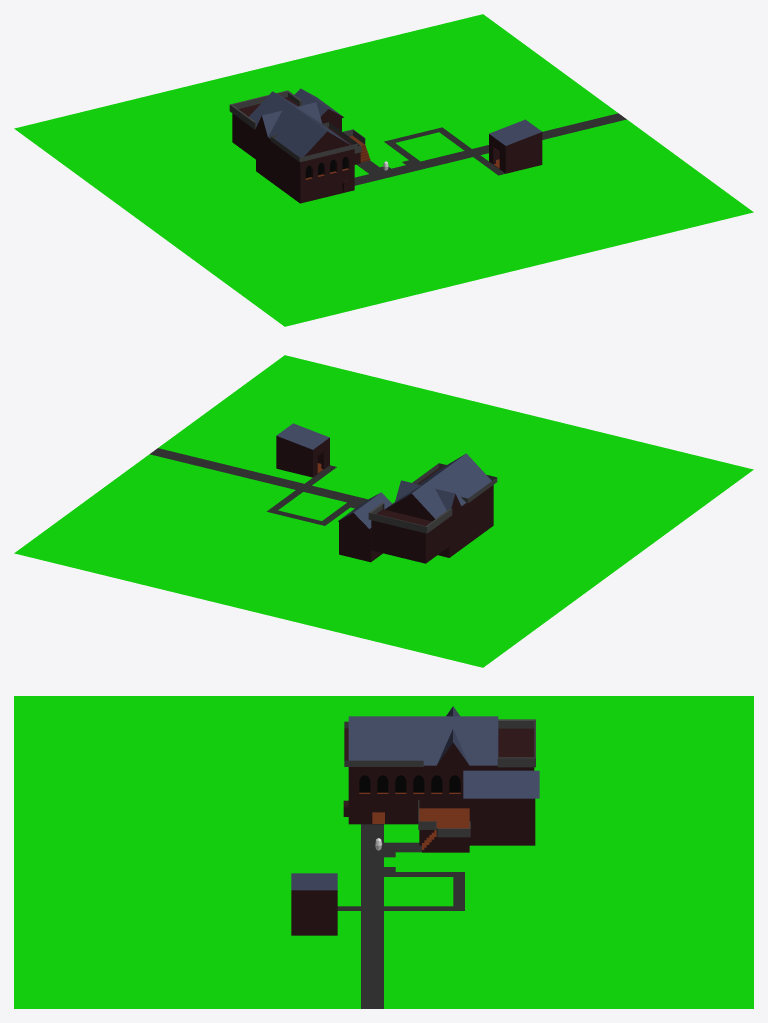
File: Location1.fbx
The picture shows the model from 3 angles, top to bottom: view 1: azimuth 30°, elevation 25°; view 2: azimuth 150°, elevation 25°; view 3: azimuth 270°, elevation 25°; orthographic projection. The views are drawn at different scales.
Parts seen in each view (by area): view 1: Плоскость, Куб, Плоскость.001; view 2: Плоскость, Куб, Плоскость.001; view 3: Плоскость, Куб, Плоскость.001.
Part boxes in pixels (x1,y1,x2,y2): Плоскость: (14,14,753,326); Куб: (229,88,365,203); Плоскость.001: (489,119,542,173); Плоскость: (14,355,753,667); Куб: (338,453,497,563); Плоскость.001: (276,423,329,477); Плоскость: (14,696,753,1008); Куб: (344,706,539,852); Плоскость.001: (291,873,337,935).
Size of what is drawn, in the model's own units: 85.64 by 14.28 by 85.64.
